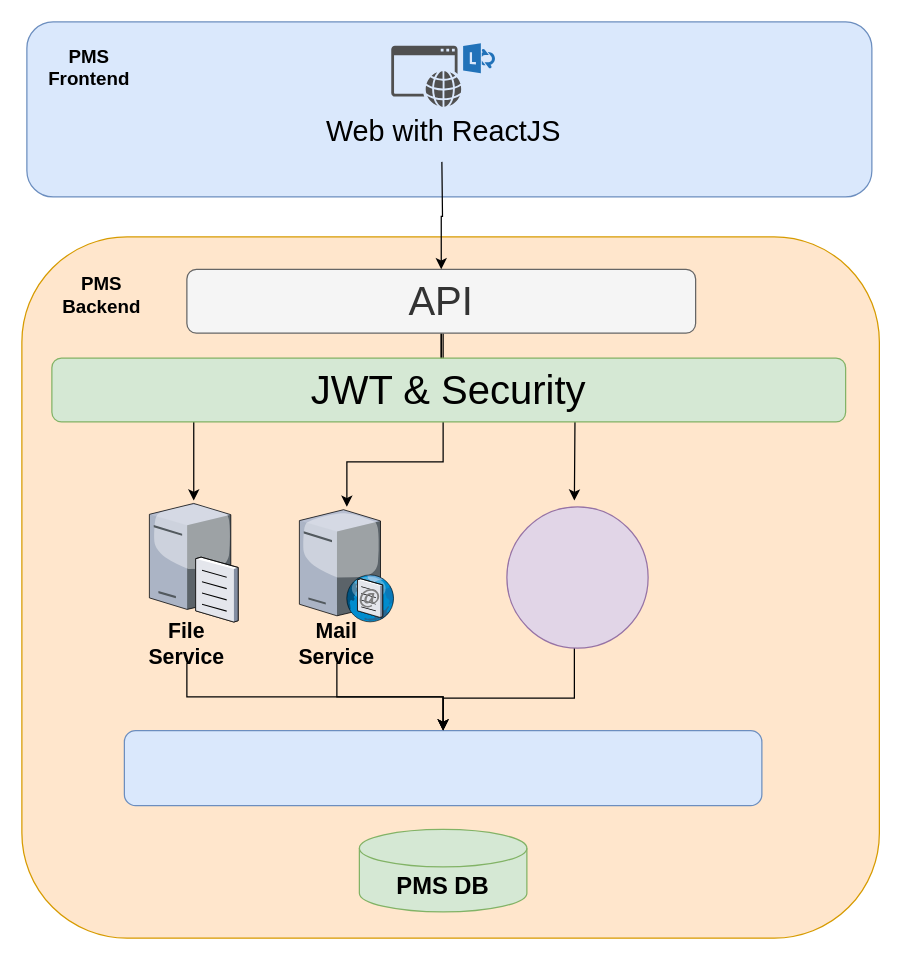
The diagram is 901 pixels wide and 960 high, and some of its shapes have lost their labels. Each missing label, with the centre of its shape:
"Business Logic" belongs at point 577,577.
"Database Postgres" belongs at point 442,767.
